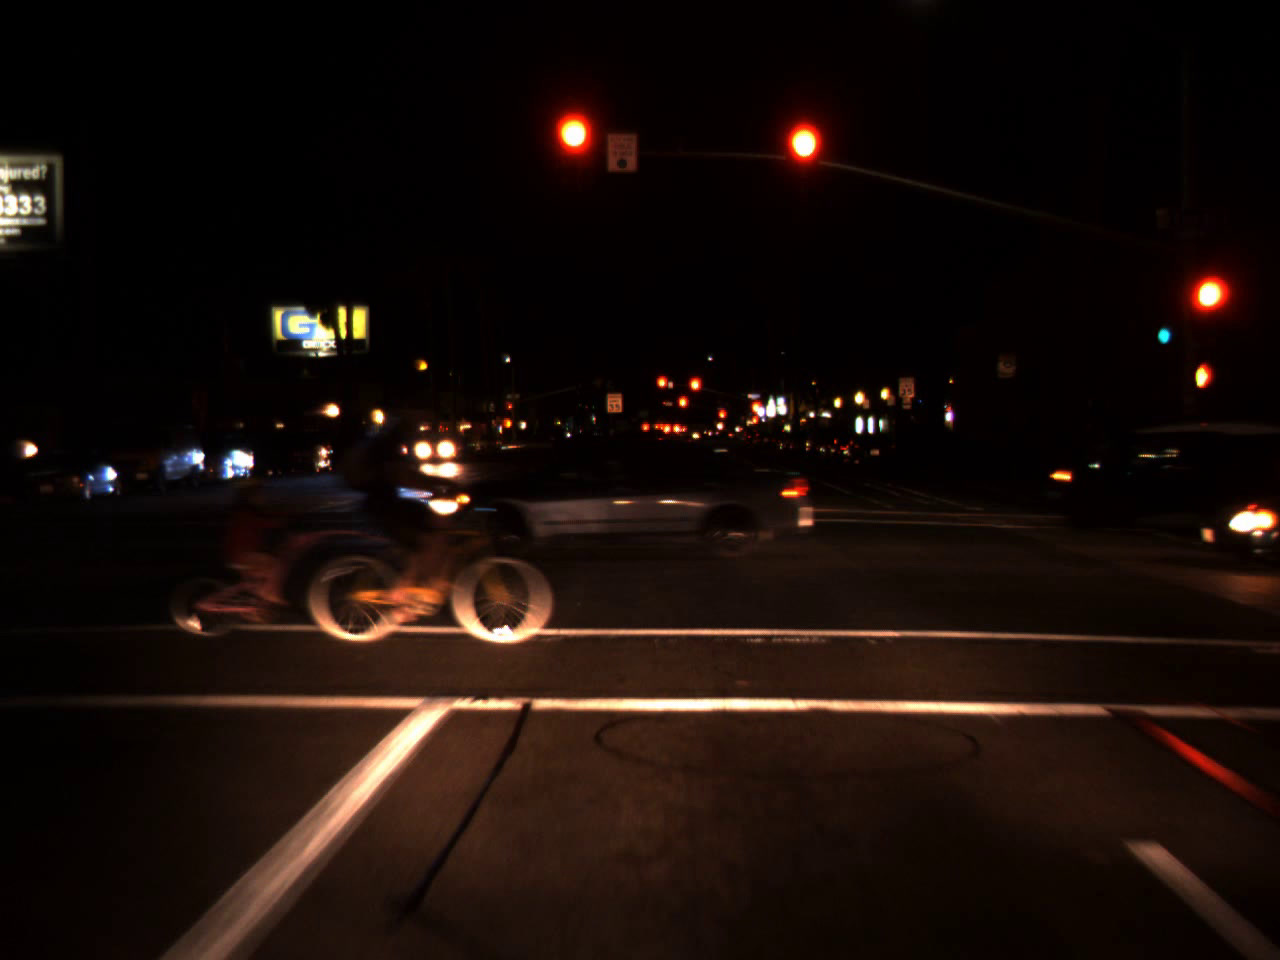stop: (783, 123, 822, 201), (555, 113, 591, 188), (1192, 279, 1226, 333), (747, 398, 763, 430), (688, 375, 701, 407), (655, 374, 668, 401), (677, 394, 689, 421), (717, 408, 727, 429), (507, 403, 513, 413)
